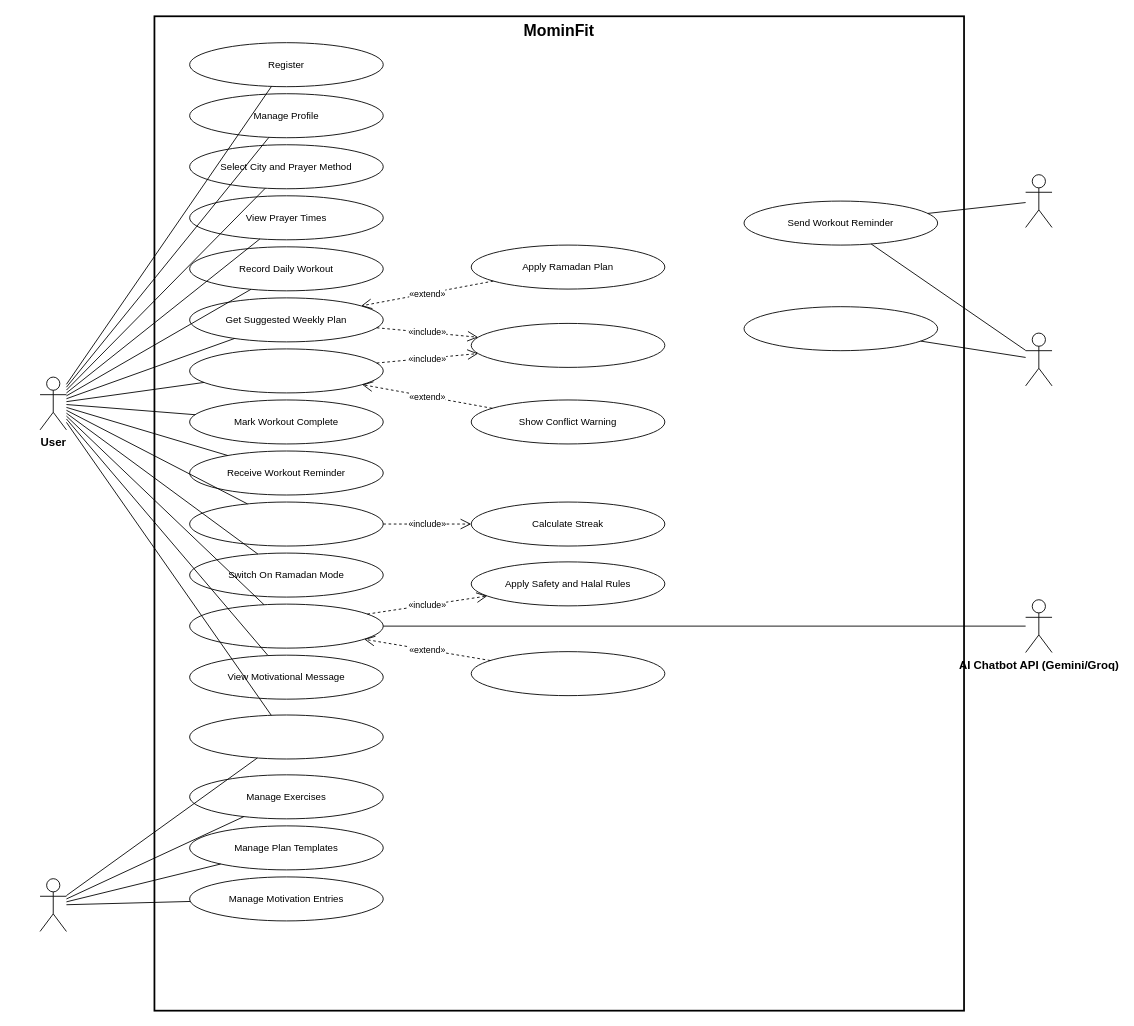
Some shapes in this 1134 by 1026 pixel diagram are drawn without their labels. Each missing label, with the box of its shape:
Ask Fitness Chatbot: (189, 603, 383, 648)
Check Prayer-Time Conflict: (470, 323, 665, 367)
Log In: (189, 714, 383, 759)
Record Missed Day: (743, 306, 938, 351)
Scheduler: (1025, 332, 1052, 386)
Show Fallback Message: (470, 651, 665, 696)
Trainer/Admin: (39, 878, 66, 931)
View Weekly Progress Report: (189, 501, 383, 546)
View/Edit Daily Schedule: (189, 348, 383, 393)
Web Push Service: (1025, 174, 1052, 227)
